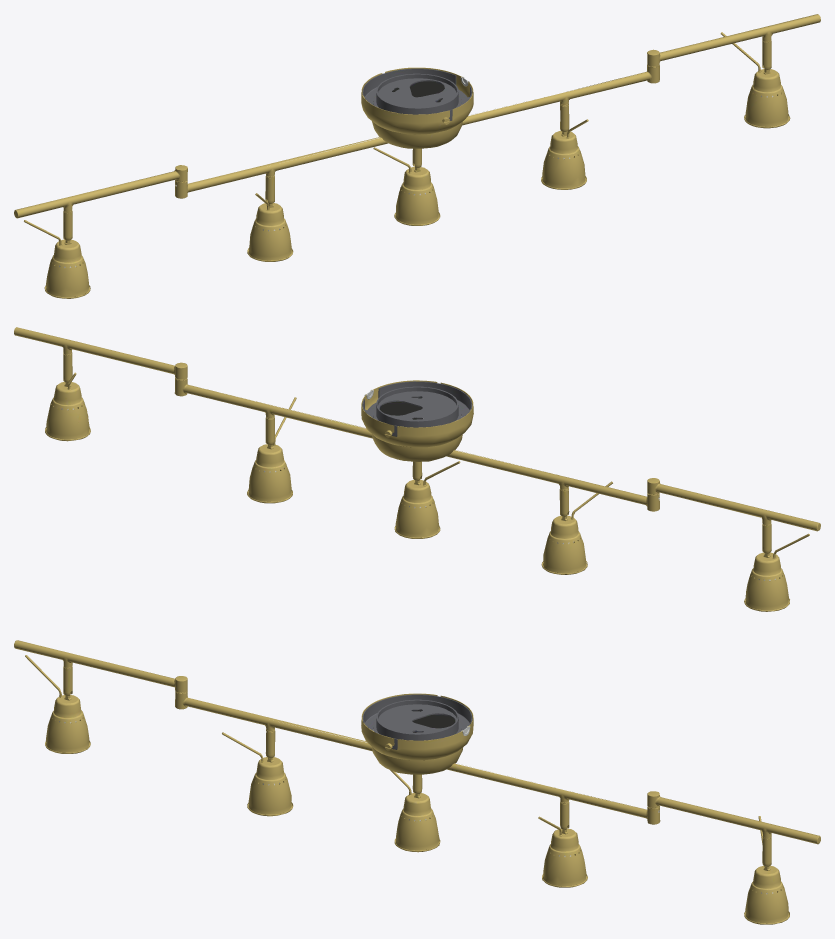
File: barometer_lampa_sufitowa_5_reflektorow_60364634.glb
3 views of the same model, one above another, from view 1: azimuth 30°, elevation 25°; view 2: azimuth 150°, elevation 25°; view 3: azimuth 330°, elevation 25° (orthographic).
Parts seen in each view (by area): view 1: barometer_lampa_sufitowa_5_reflektorow_60364634; view 2: barometer_lampa_sufitowa_5_reflektorow_60364634; view 3: barometer_lampa_sufitowa_5_reflektorow_60364634.
Boxes of the visible parts, x1,y1,x2,y2 form: barometer_lampa_sufitowa_5_reflektorow_60364634: (14,14,820,298); barometer_lampa_sufitowa_5_reflektorow_60364634: (14,327,820,611); barometer_lampa_sufitowa_5_reflektorow_60364634: (14,640,820,924).
Bounding box in the file's own units: 1.31 × 0.1961 × 0.1681.
1 material, 1 textured.
